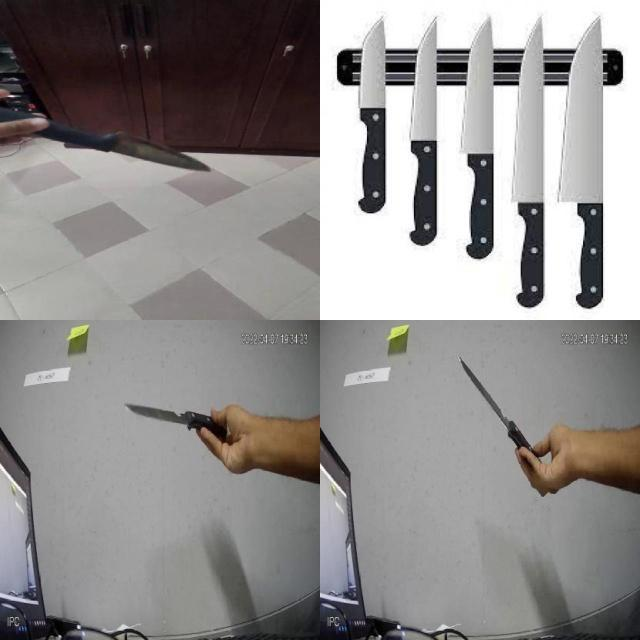-: (563, 0, 617, 222), (515, 0, 559, 226), (457, 354, 540, 459), (459, 4, 502, 199), (346, 14, 399, 149), (90, 129, 216, 180), (410, 11, 447, 179), (120, 395, 233, 441)
